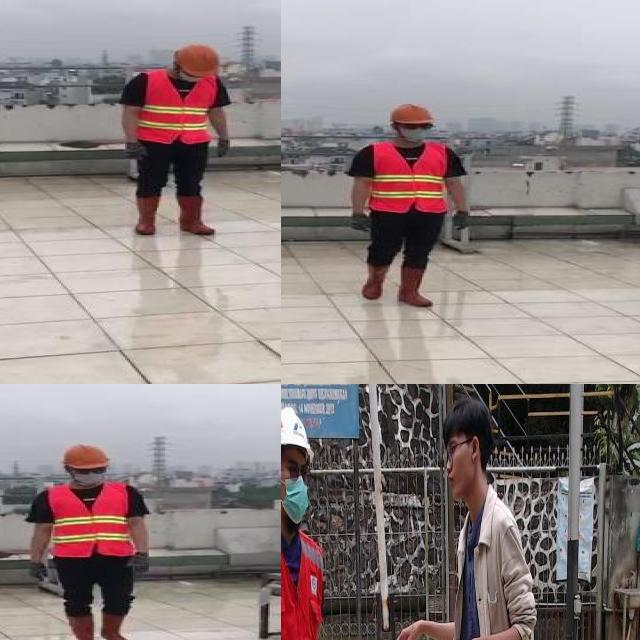No_Ear-Protection: (469, 434, 481, 462)
boots: (175, 194, 210, 235), (399, 264, 429, 306), (130, 197, 162, 235), (97, 611, 134, 640), (63, 611, 99, 640), (364, 261, 388, 299)
face_mask: (396, 118, 436, 142), (69, 466, 108, 484)
glasses: (67, 464, 112, 476), (398, 121, 437, 132)
hand_glove: (349, 211, 378, 236), (122, 139, 144, 163), (447, 207, 468, 230), (133, 551, 153, 574), (26, 561, 48, 581), (214, 137, 230, 159)
head_helmet: (281, 405, 315, 469), (170, 43, 222, 78), (56, 443, 114, 471), (385, 102, 439, 126)
person: (390, 395, 553, 640), (338, 100, 478, 314), (23, 437, 155, 640), (116, 43, 237, 241), (281, 389, 362, 640)
vest: (49, 481, 133, 559), (136, 70, 214, 144), (370, 142, 450, 212), (281, 519, 327, 640)
